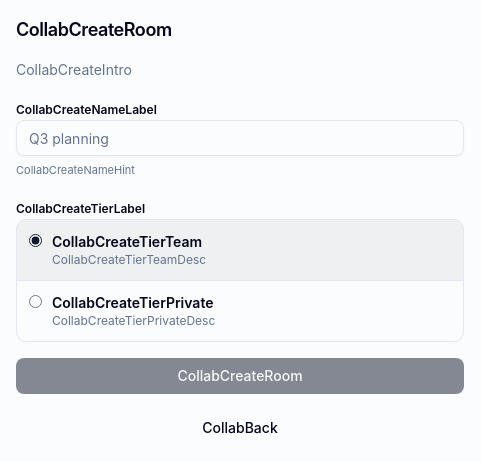
Test: CollabEditor create flow (053/054/048) › no server configured → invite carries no fp (nothing to gray against)
In the field with test id "collab-create-name": point(240, 138) [16,120,464,156], type "Solo board"
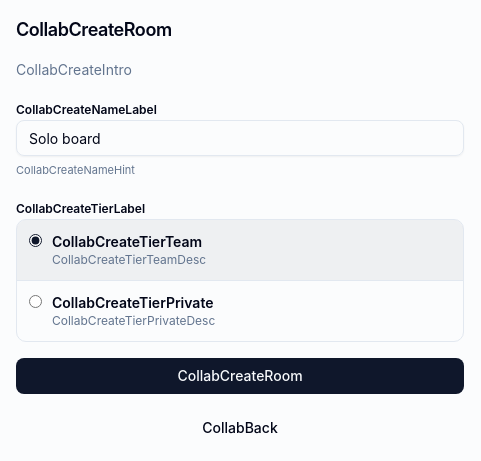
Click the button with test id "collab-create-submit": point(240, 376) [16,358,464,394]
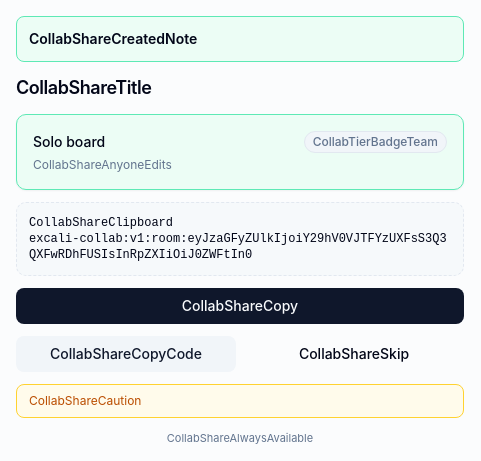
Now the element with test id "collab-share-step" is shown
